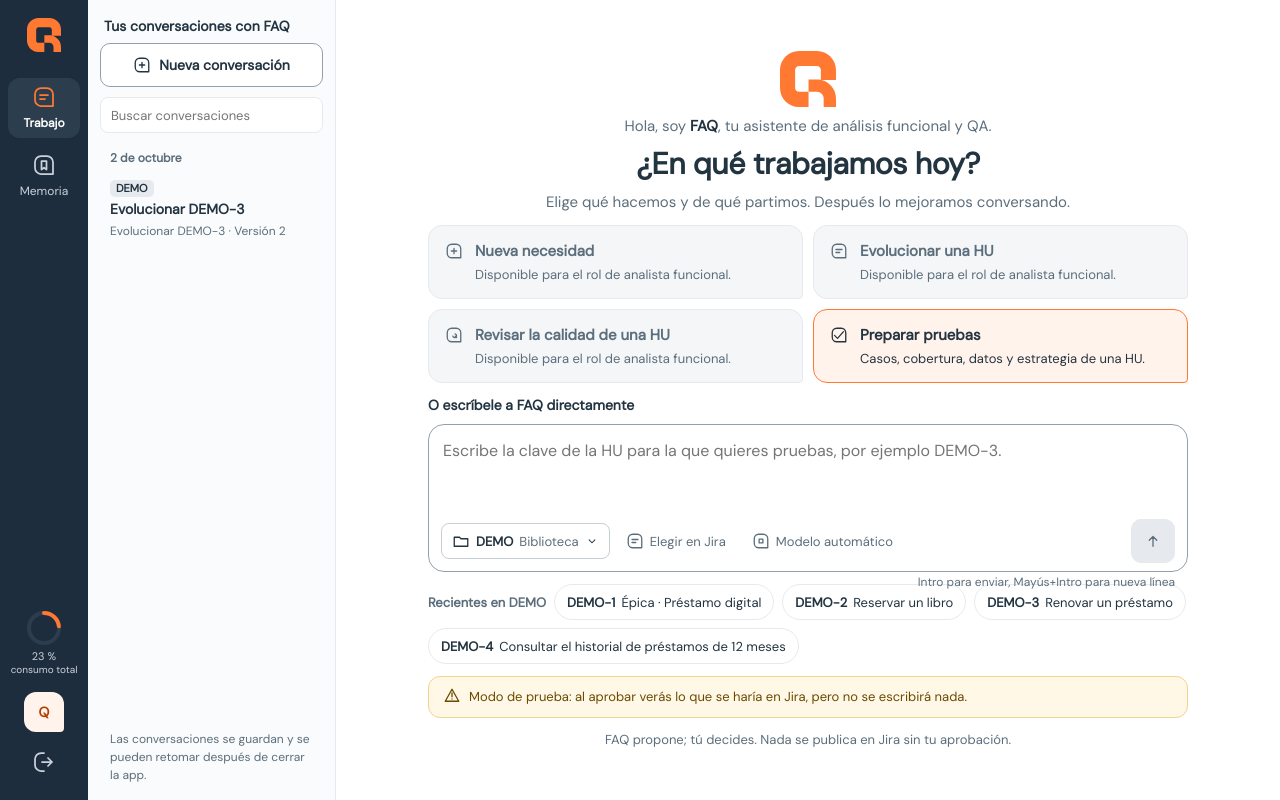
Test: QA 1 · Origen › tipos de caso: positivos y negativos marcados y fijos; alternos y de excepción, marcados y se pueden quitar
Expected: the button with aria-label "Proyecto de Jira: DEMO" is shown, [441, 523, 610, 559]
Click the text box at point(808, 475), box [441, 437, 1175, 513]
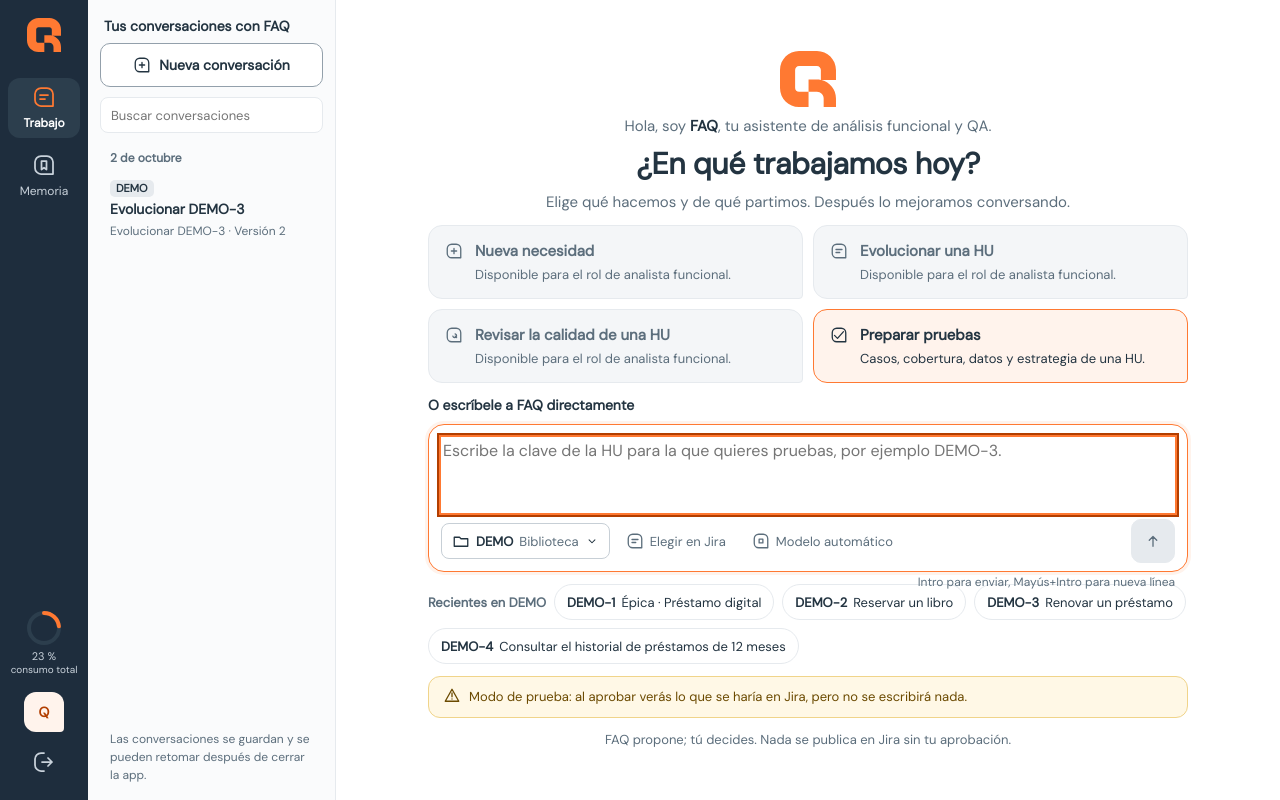
Type keys "DEMO-3"
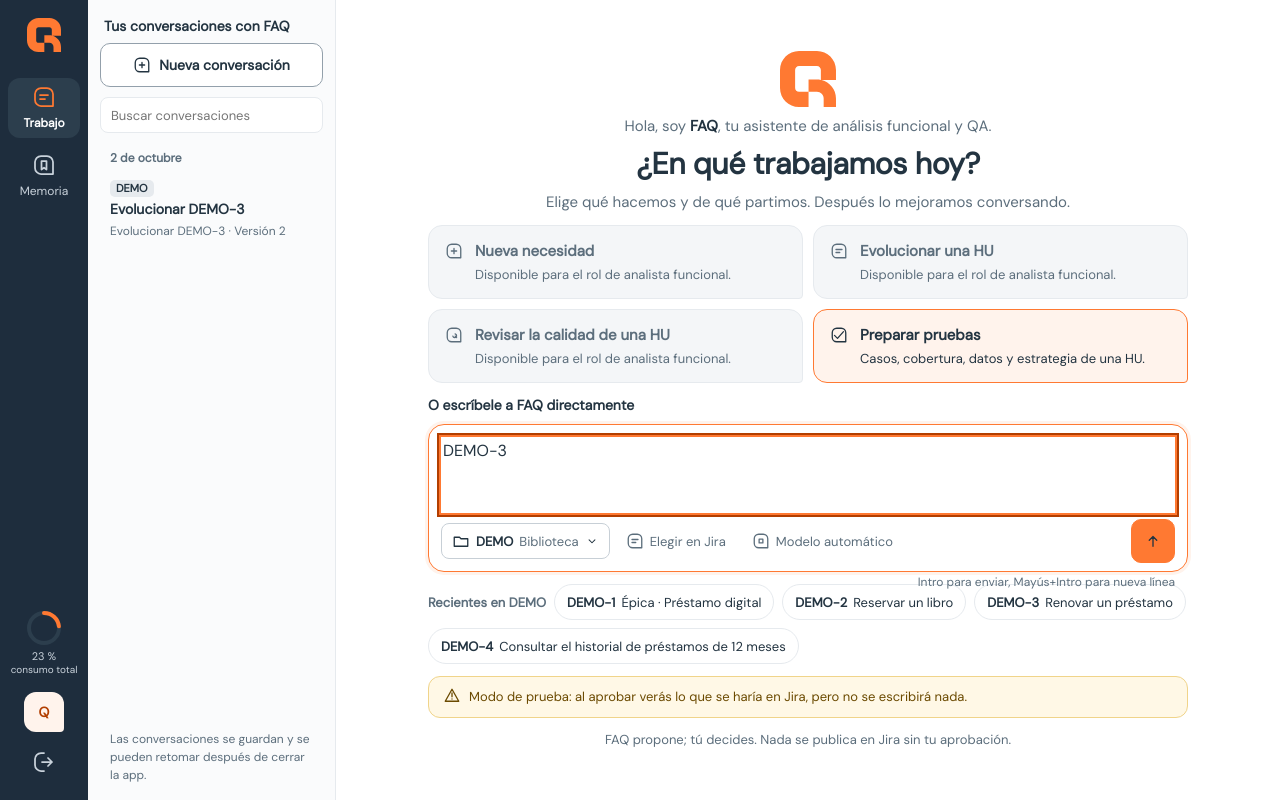
Click the button named "Continuar" at point(1153, 541), box [1131, 519, 1175, 563]
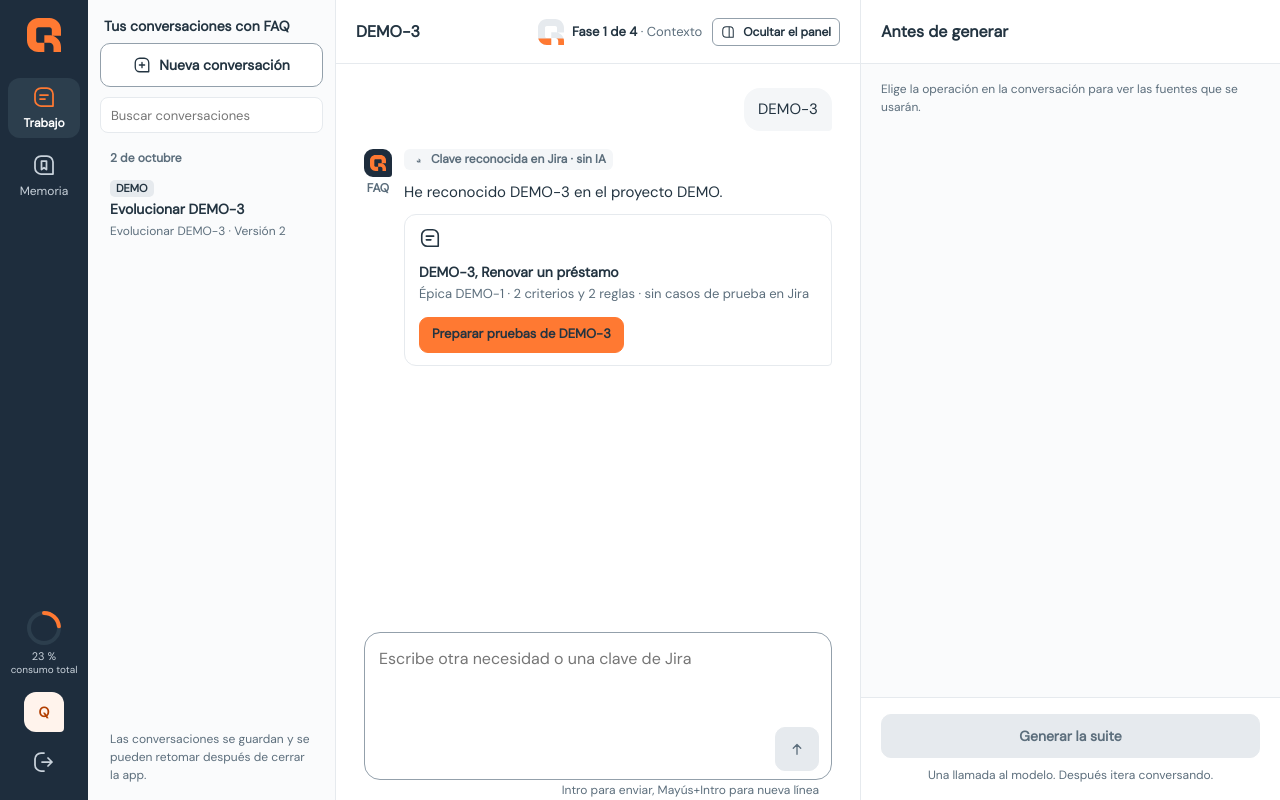
Click the button "Preparar pruebas de DEMO-3" at point(521, 335), box [419, 317, 624, 353]
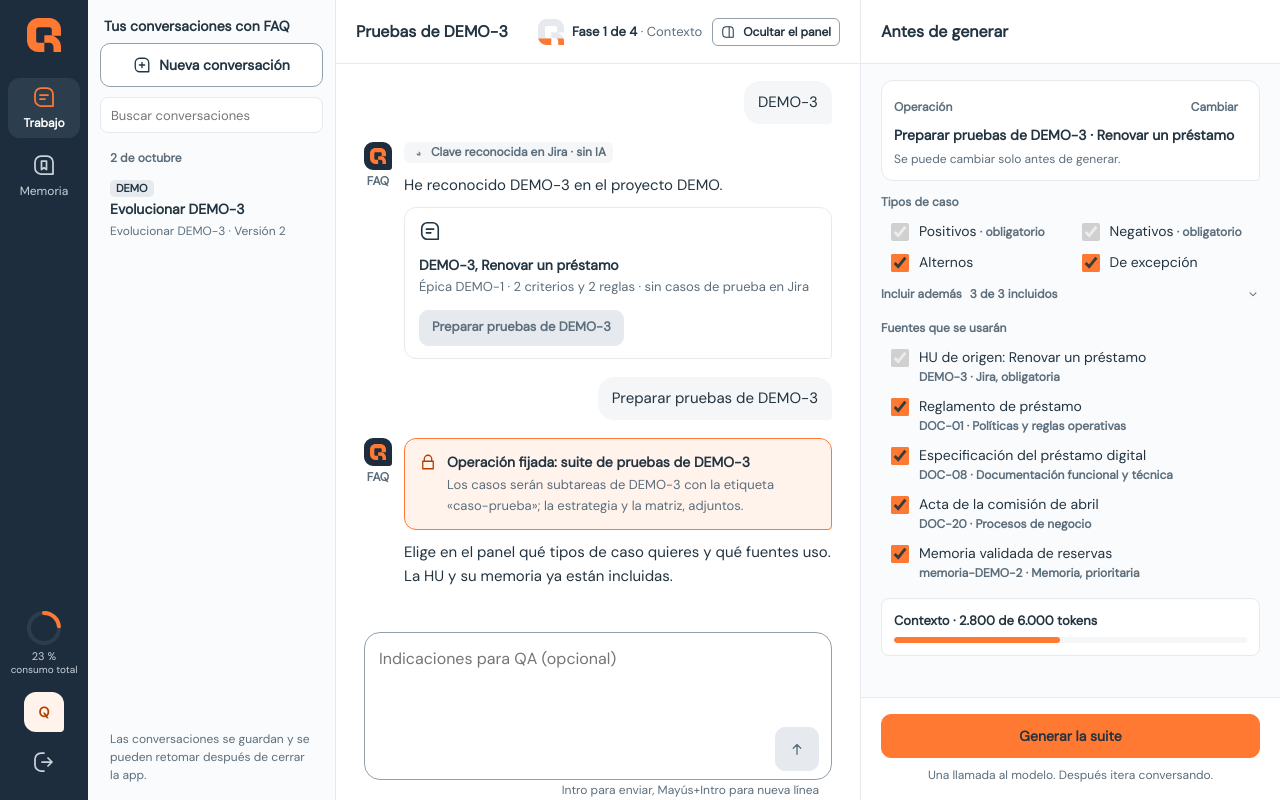
Result: the checkbox labelled "HU de origen: Renovar un préstamo DEMO-3 · Jira, obligatoria" is shown at [891, 349, 909, 367]
Result: the checkbox labelled "Positivos · obligatorio" is checked at [891, 223, 909, 241]
Result: the checkbox labelled "Positivos · obligatorio" is disabled at [891, 223, 909, 241]
Click the button "Incluir además 3 de 3 incluidos" at point(921, 294), box [881, 281, 1260, 307]
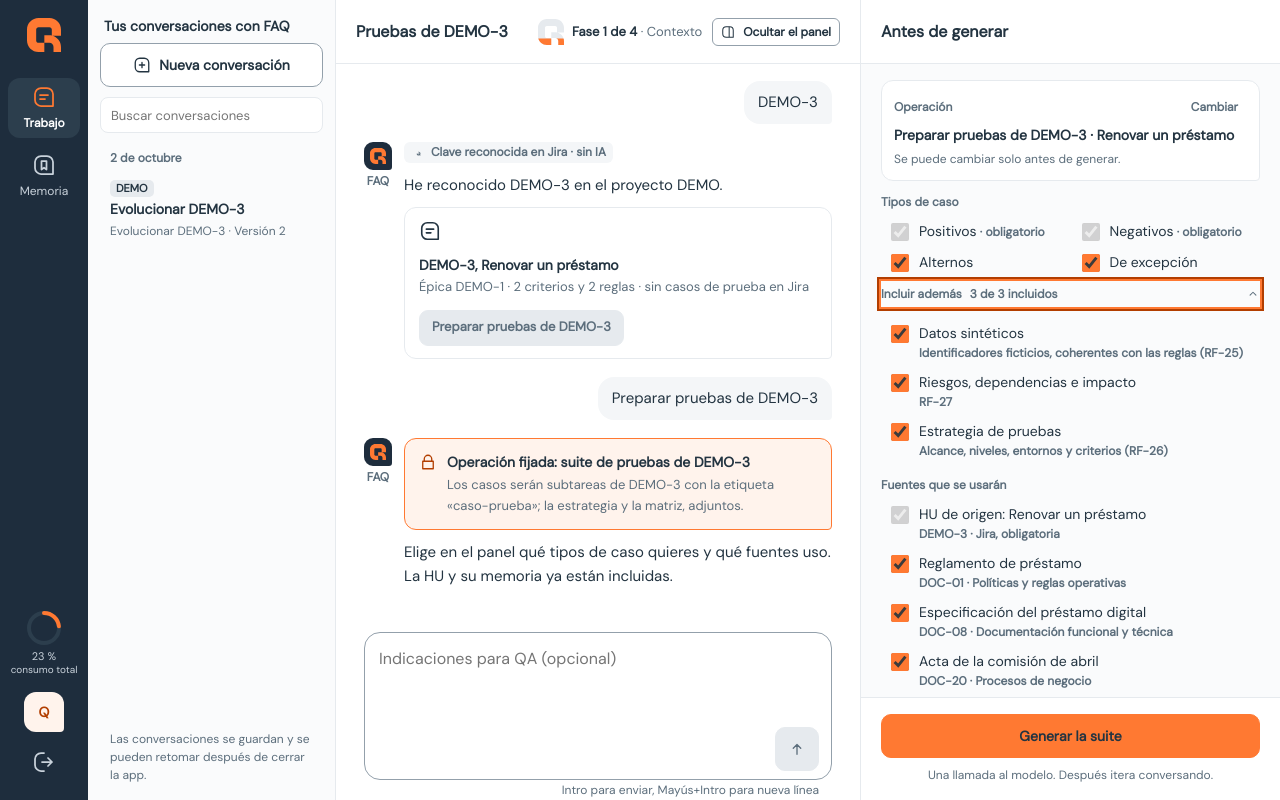
Result: the checkbox labelled "Riesgos, dependencias e impacto RF-27" is checked at [891, 374, 909, 392]
